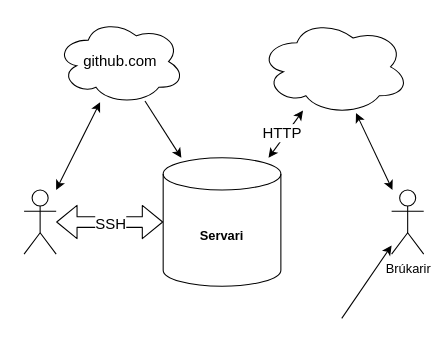
The diagram is 448 pixels wide and 346 high, and some of its shapes have lost their labels. Each missing label, with the box of its shape:
brian-e.online HTML, CSS, JavaScript: (258, 18, 409, 115)
Forritari: (23, 189, 56, 254)
